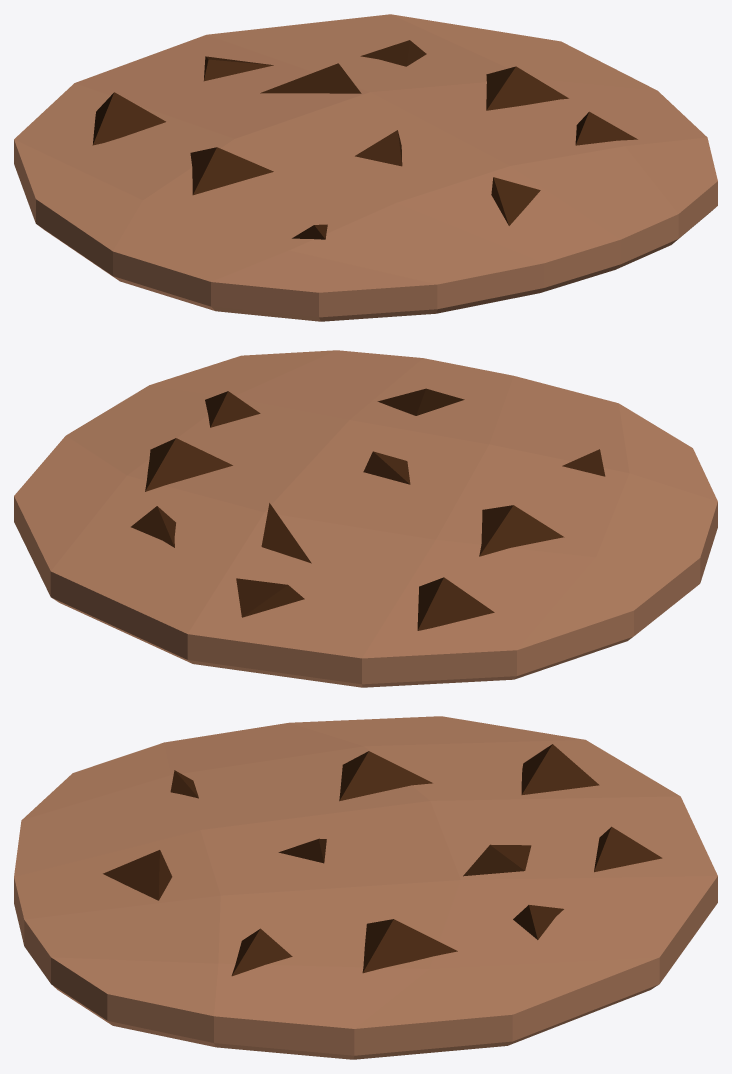
The model's file is cookie.glb.
3 views of the same model, one above another, from view 1: azimuth 30°, elevation 25°; view 2: azimuth 150°, elevation 25°; view 3: azimuth 270°, elevation 25° (orthographic). The views are drawn at different scales.
Parts seen in each view (by area): view 1: cookie; view 2: cookie; view 3: cookie.
Boxes of the visible parts, x1,y1,x2,y2 form: cookie: (14, 14, 717, 321); cookie: (14, 350, 717, 687); cookie: (14, 716, 717, 1059).
Bounding box in the file's own units: 0.1445 × 0.0181 × 0.1395.
